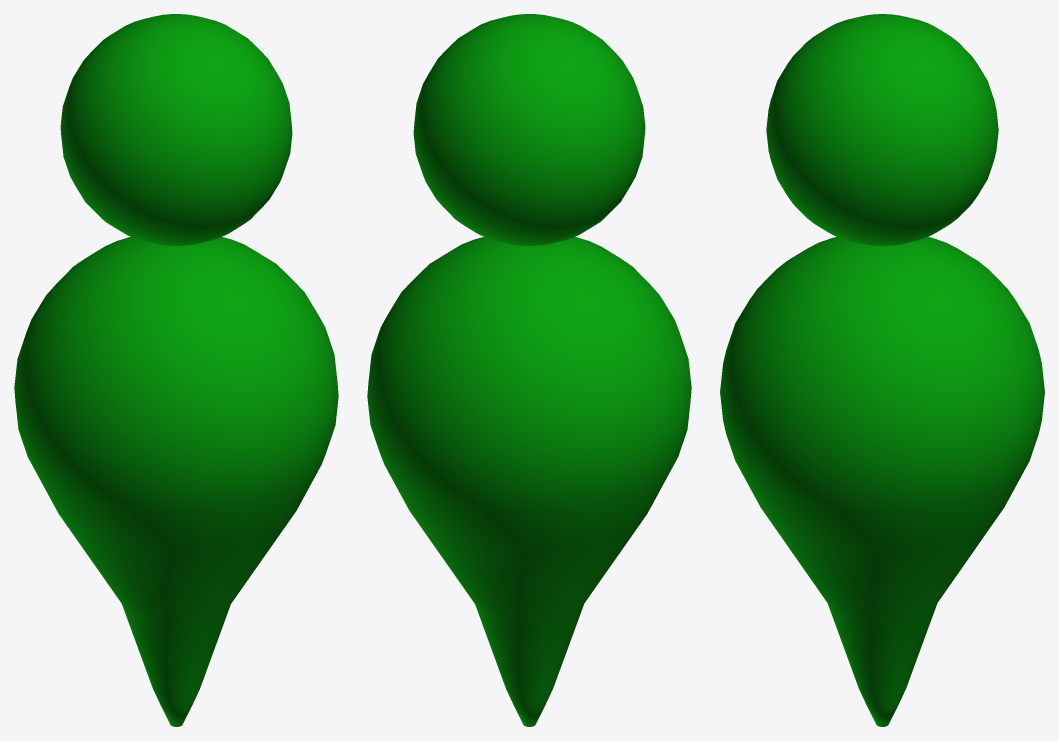
Rendered from Icon_location.FBX.
3 renders of one model, left to right at view 1: azimuth 30°, elevation 25°; view 2: azimuth 150°, elevation 25°; view 3: azimuth 270°, elevation 25°, orthographic.
Parts seen in each view (by area): view 1: Sphere001; view 2: Sphere001; view 3: Sphere001.
Boxes of the visible parts, left/top/right/bottom form: Sphere001: left=14, top=14, right=338, bottom=726; Sphere001: left=367, top=14, right=691, bottom=726; Sphere001: left=720, top=14, right=1044, bottom=726.
Bounding box in the file's own units: 675 × 1606 × 675.
